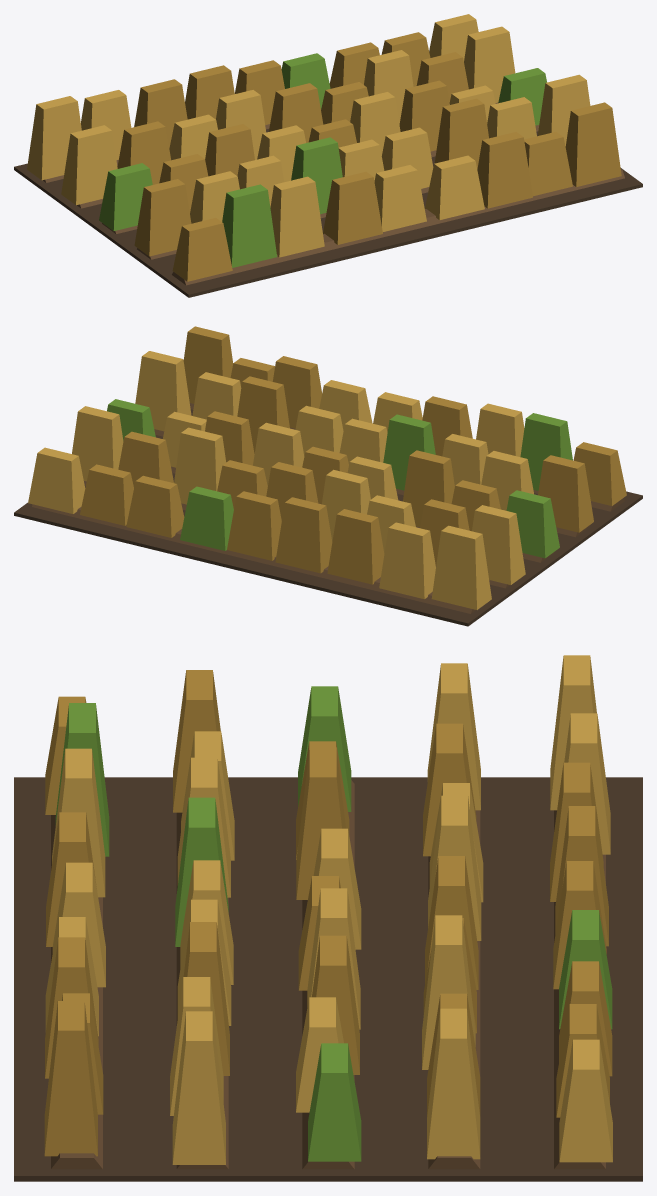
The model's file is desert_crops_b.glb.
3 renders of one model, top to bottom at view 1: azimuth 30°, elevation 25°; view 2: azimuth 150°, elevation 25°; view 3: azimuth 270°, elevation 25°, orthographic. The views are drawn at different scales.
Parts seen in each view (by area): view 1: desert_crops_b; view 2: desert_crops_b; view 3: desert_crops_b.
Boxes of the visible parts, bbox=[...] form: desert_crops_b: bbox=[14, 14, 642, 297]; desert_crops_b: bbox=[14, 326, 642, 626]; desert_crops_b: bbox=[14, 655, 642, 1181].
Size of the model in its own units: 6 by 0.9455 by 4.
